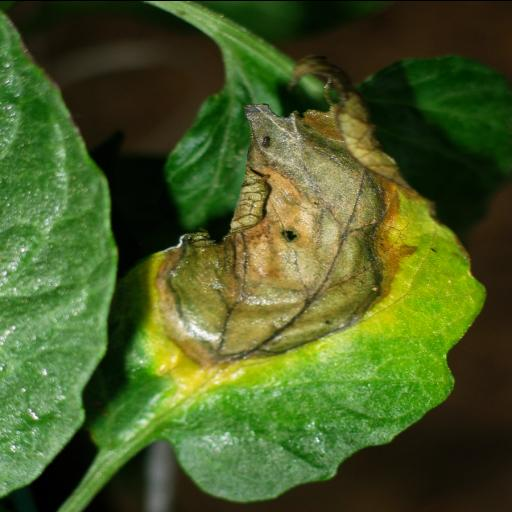Late Blight: (86, 55, 486, 503)
